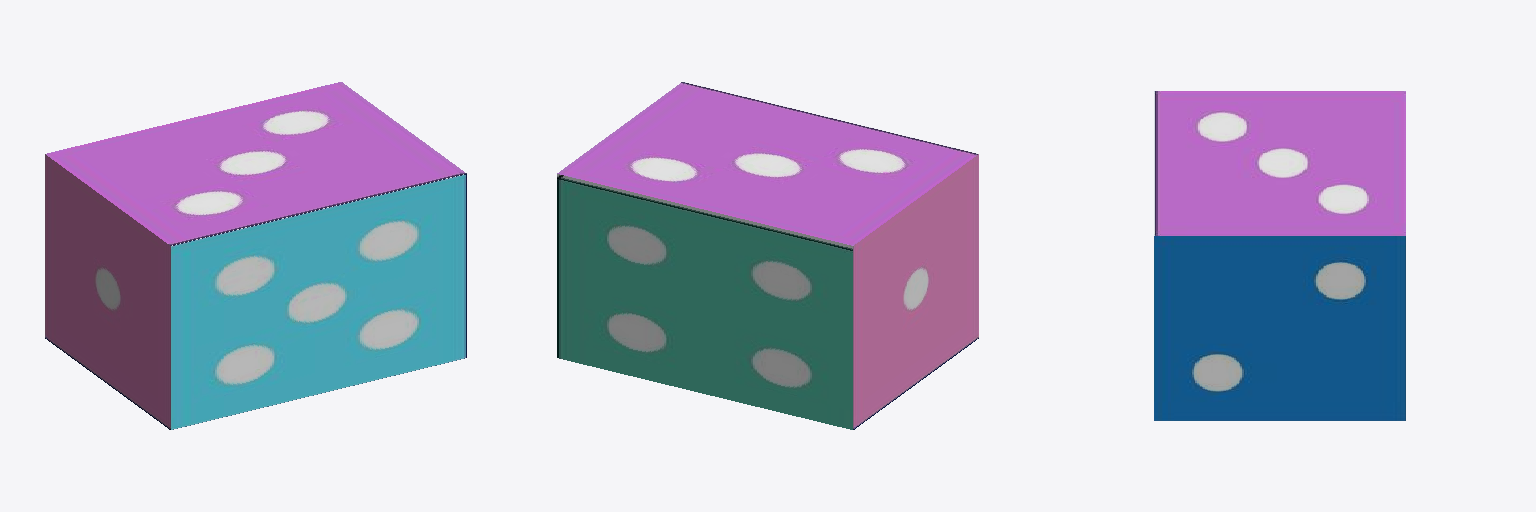
3 renders of one model, left to right at view 1: azimuth 30°, elevation 25°; view 2: azimuth 150°, elevation 25°; view 3: azimuth 270°, elevation 25°, orthographic.
Visible parts, largest first — view 1: Box28890; view 2: Box28890; view 3: Box28890.
Part boxes in pixels (left/top/right/bottom): Box28890: left=45, top=82, right=466, bottom=429; Box28890: left=557, top=82, right=978, bottom=429; Box28890: left=1154, top=91, right=1405, bottom=420.
Bounding box in the file's own units: 0.3286 × 0.1952 × 0.2415.
1 materials, 1 textured.